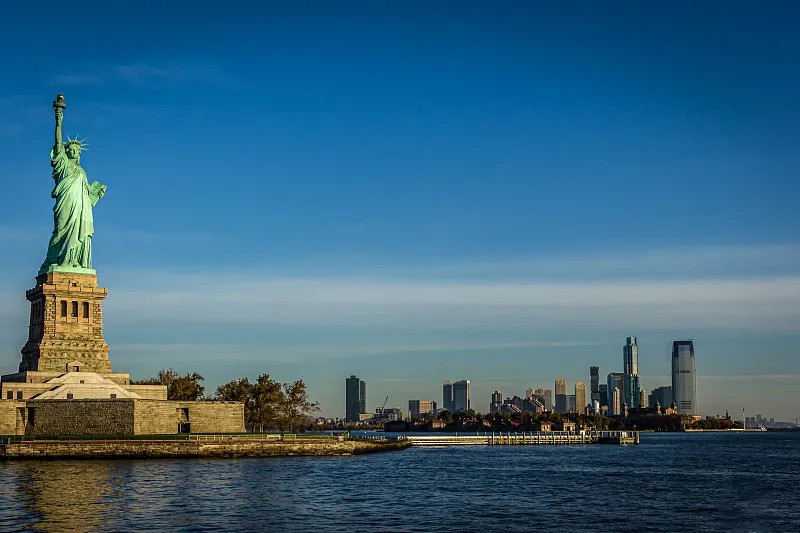SL: (19, 94, 111, 373)
